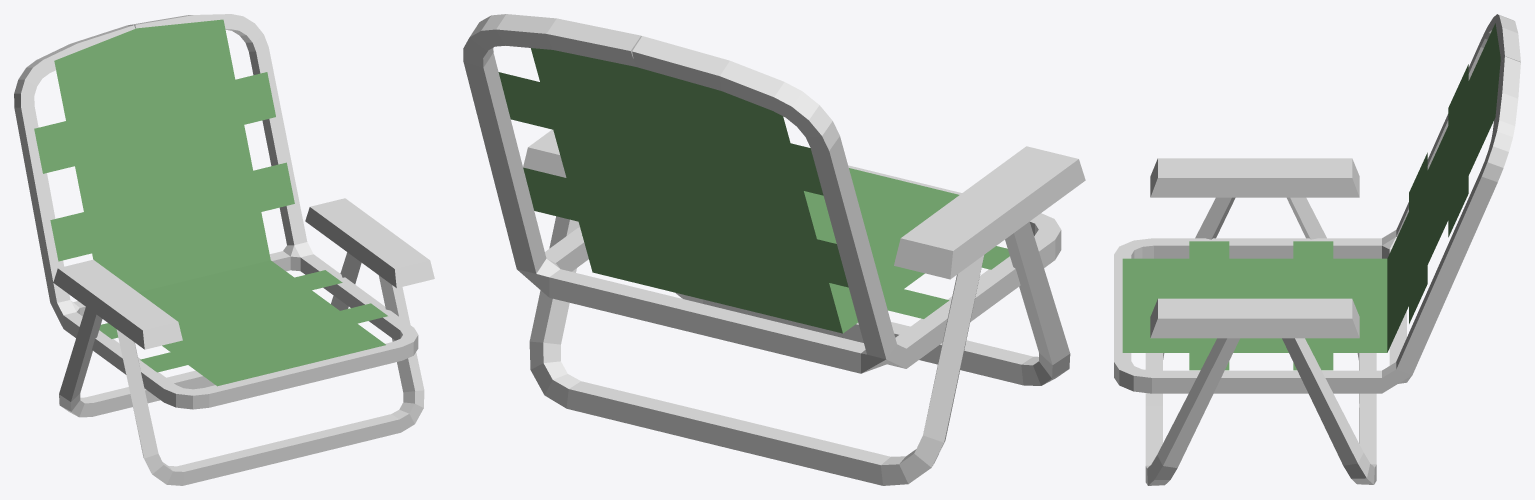
File: garden_chair.gltf
The picture shows the model from 3 angles, left to right: view 1: azimuth 30°, elevation 25°; view 2: azimuth 150°, elevation 25°; view 3: azimuth 270°, elevation 25°; orthographic projection. The views are drawn at different scales.
Visible parts, largest first — view 1: Plane.001, Plane.002, Plane.003; view 2: Plane.002, Plane.001, Plane.003; view 3: Plane.002, Plane.001, Plane.003.
Part boxes in pixels (box(x1,y1,x2,y2)): Plane.001: box(34, 19, 387, 386); Plane.002: box(14, 14, 424, 485); Plane.003: box(53, 198, 434, 349); Plane.002: box(463, 14, 1070, 485); Plane.001: box(498, 48, 1009, 333); Plane.003: box(523, 129, 1085, 279); Plane.002: box(1114, 14, 1520, 485); Plane.001: box(1122, 23, 1500, 370); Plane.003: box(1150, 158, 1359, 338).
Bounding box in the file's own units: 1.21 × 1.28 × 1.29.
